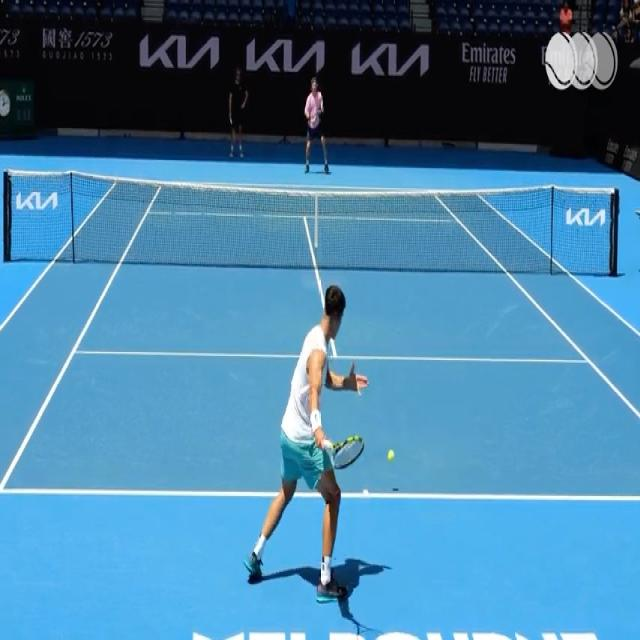forehand-ready: (246, 281, 397, 607)
